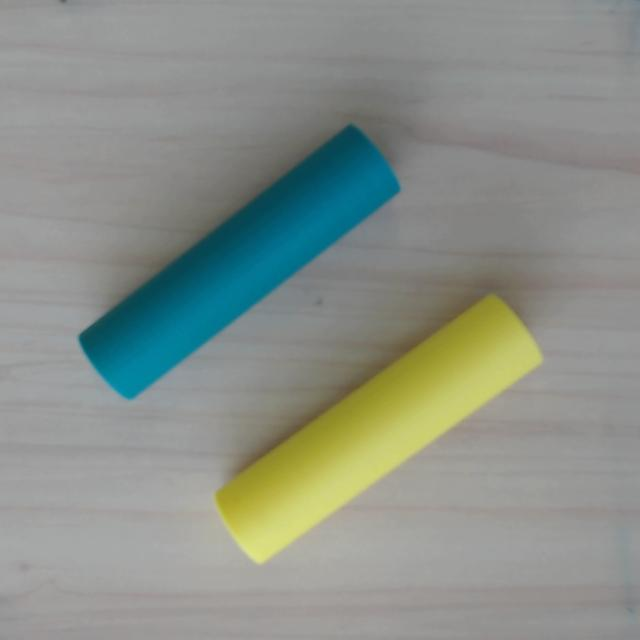Silinder-Hijau-10025: (73, 121, 407, 406)
Silinder-Kuning-10025: (205, 288, 548, 568)
